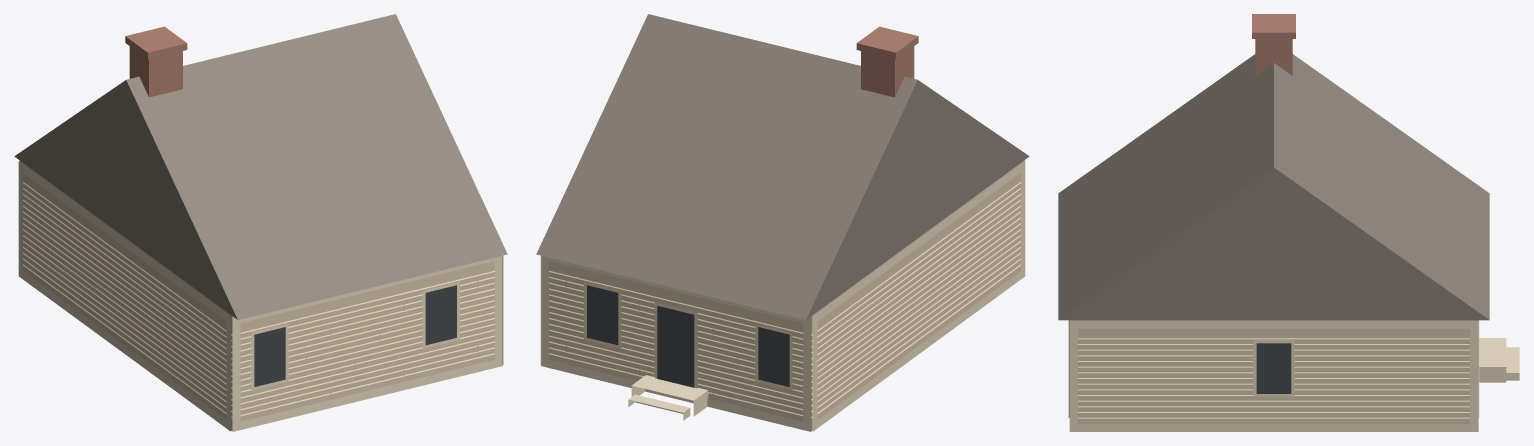
Rendered from recon_1835_blk_randolph_market_d5_01__inferred_1835.glb.
3 renders of one model, left to right at view 1: azimuth 30°, elevation 25°; view 2: azimuth 150°, elevation 25°; view 3: azimuth 270°, elevation 25°, orthographic. The views are drawn at different scales.
Visible parts, largest first — view 1: recon_1835_blk_randolph_market_d5_01__inferred_1835; view 2: recon_1835_blk_randolph_market_d5_01__inferred_1835; view 3: recon_1835_blk_randolph_market_d5_01__inferred_1835.
Boxes of the visible parts, bbox=[...] form: recon_1835_blk_randolph_market_d5_01__inferred_1835: bbox=[14, 14, 507, 431]; recon_1835_blk_randolph_market_d5_01__inferred_1835: bbox=[536, 14, 1029, 431]; recon_1835_blk_randolph_market_d5_01__inferred_1835: bbox=[1058, 14, 1519, 431].
Bounding box in the file's own units: 6.8 × 7.3 × 10.32.
